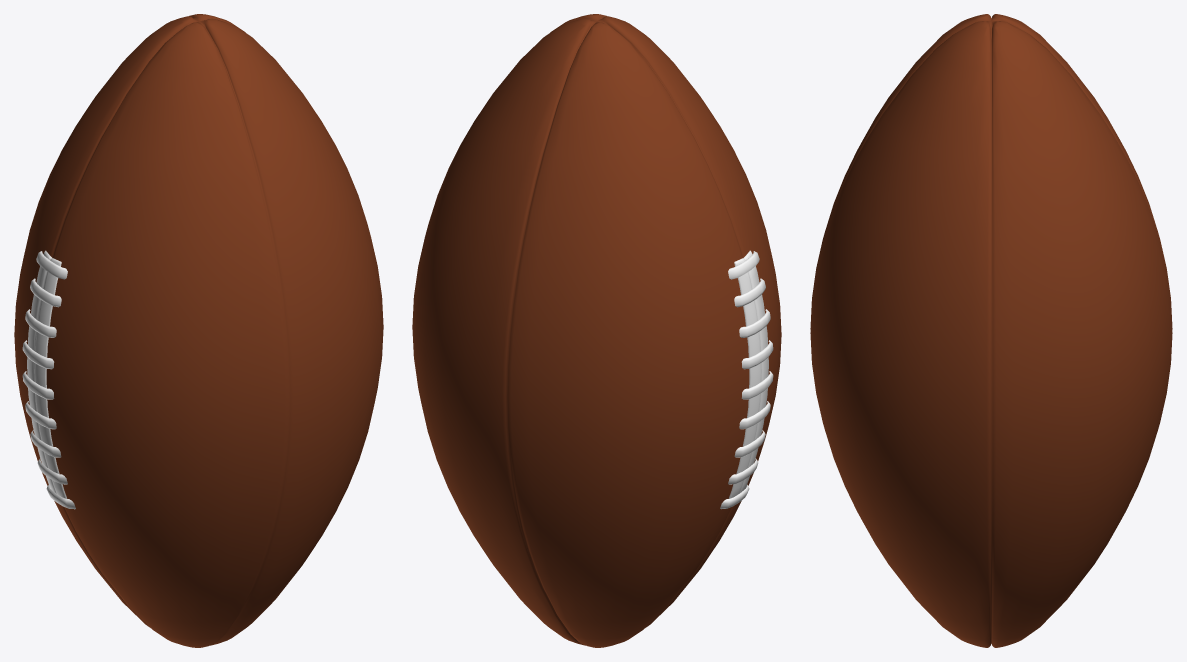
File: Football.fbx
The picture shows the model from 3 angles, left to right: view 1: azimuth 30°, elevation 25°; view 2: azimuth 150°, elevation 25°; view 3: azimuth 270°, elevation 25°; orthographic projection.
Parts seen in each view (by area): view 1: box123; view 2: box123; view 3: box123.
Part boxes in pixels (left/top/right/bottom): box123: left=14, top=14, right=383, bottom=647; box123: left=412, top=14, right=781, bottom=647; box123: left=810, top=14, right=1172, bottom=647.
Size of the model in its own units: 1.63 by 2.93 by 1.54.
